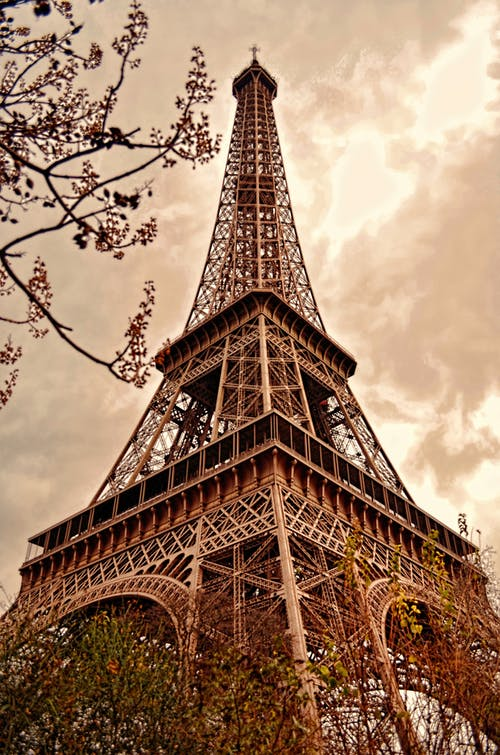eiffel tower: (25, 18, 500, 734)
